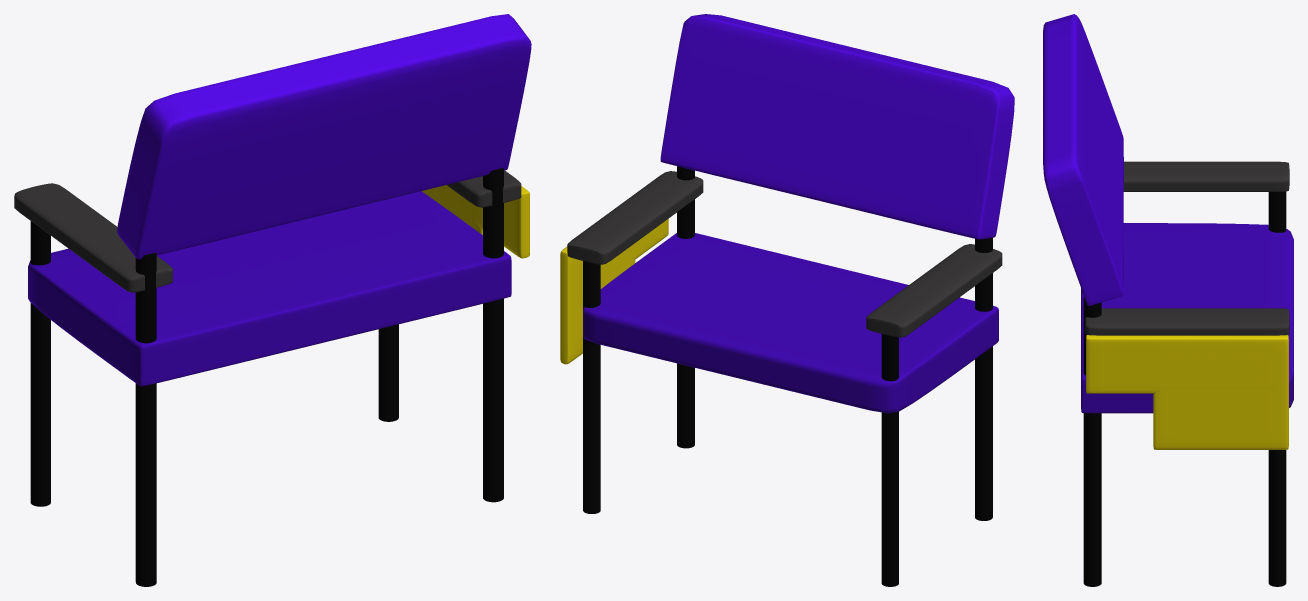
The model's file is chair.fbx.
3 views of the same model, side by side, from view 1: azimuth 30°, elevation 25°; view 2: azimuth 150°, elevation 25°; view 3: azimuth 270°, elevation 25° (orthographic). The views are drawn at different scales.
Visible parts, largest first — view 1: pCube2, pCube1, pCube4, pCylinder4, pCylinder7, pCylinder6, pCube9, pCylinder1, pCube3; view 2: pCube2, pCube1, pCube3, pCube4, pCylinder6, pCylinder1, pCylinder4, pCube9, pCylinder7; view 3: pCube9, pCube2, pCube1, pCube3, pCube4, pCylinder7, pCylinder1, pCylinder6.
Part boxes in pixels (x1,y1,x2,y2): pCube2: (117, 14, 531, 259); pCube1: (28, 191, 511, 386); pCube4: (14, 183, 172, 292); pCylinder4: (135, 252, 156, 586); pCylinder7: (483, 168, 503, 502); pCylinder6: (30, 221, 50, 506); pCube9: (421, 185, 529, 258); pCylinder1: (378, 324, 398, 421); pCube3: (447, 170, 521, 207); pCube2: (660, 14, 1014, 239); pCube1: (583, 233, 998, 413); pCube3: (567, 171, 703, 264); pCube4: (866, 244, 1002, 337); pCylinder6: (881, 334, 898, 586); pCylinder1: (583, 261, 600, 513); pCylinder4: (975, 237, 992, 520); pCube9: (560, 219, 668, 364); pCylinder7: (677, 166, 694, 448); pCube9: (1086, 335, 1288, 449); pCube2: (1043, 14, 1123, 305); pCube1: (1081, 223, 1293, 413); pCube3: (1085, 308, 1289, 336); pCube4: (1123, 161, 1289, 191); pCylinder7: (1083, 296, 1101, 586); pCylinder1: (1268, 450, 1286, 586); pCylinder6: (1268, 191, 1286, 232).
Size of the model in its own units: 6.6 by 7.73 by 4.14.
